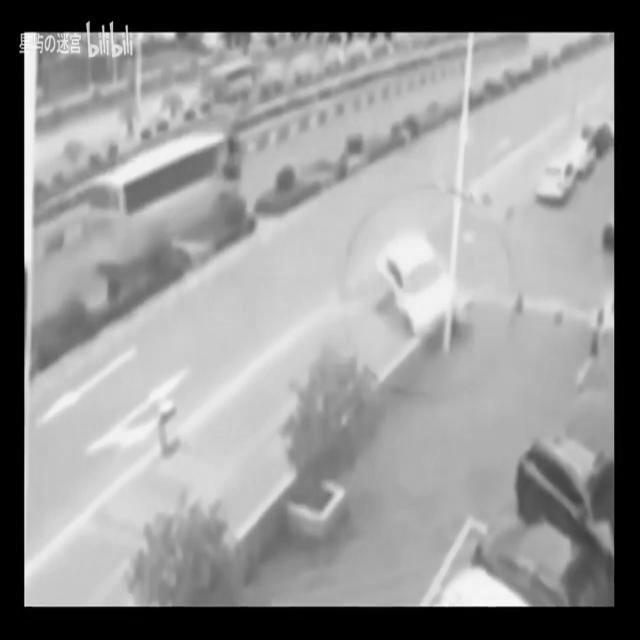accident: (361, 221, 490, 361)
